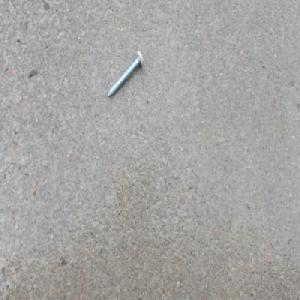Nail: (106, 48, 144, 99)
